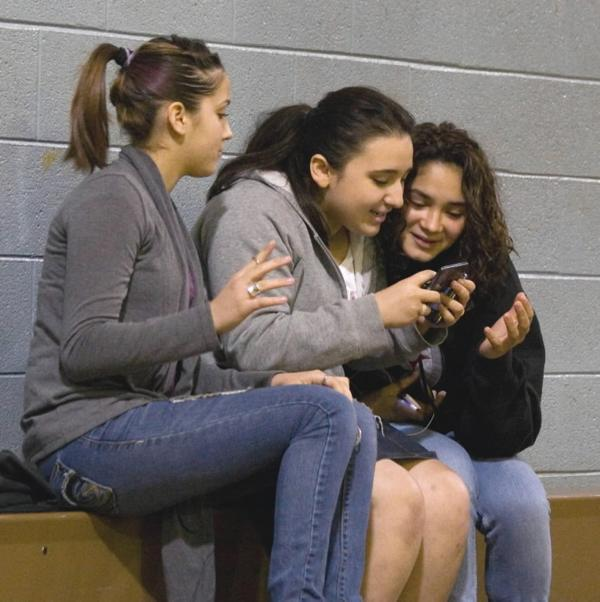person: (186, 85, 479, 601)
